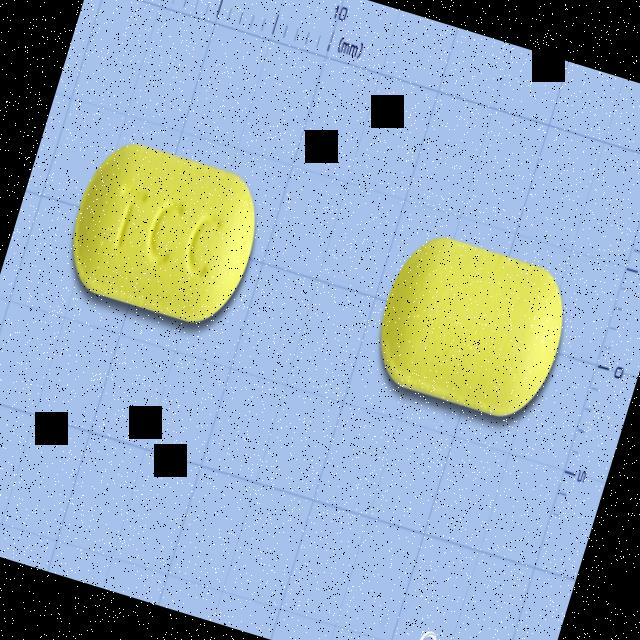Clycin Tab-500mg: (57, 132, 271, 334)
